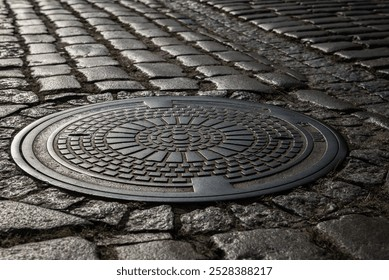Open_manhole: (5, 94, 347, 204)
